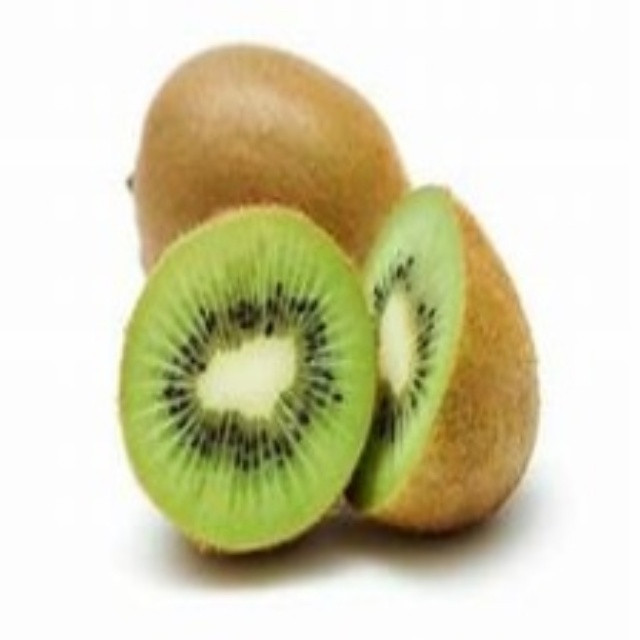kiwi: (108, 205, 380, 556), (337, 187, 545, 556), (118, 39, 410, 301)
